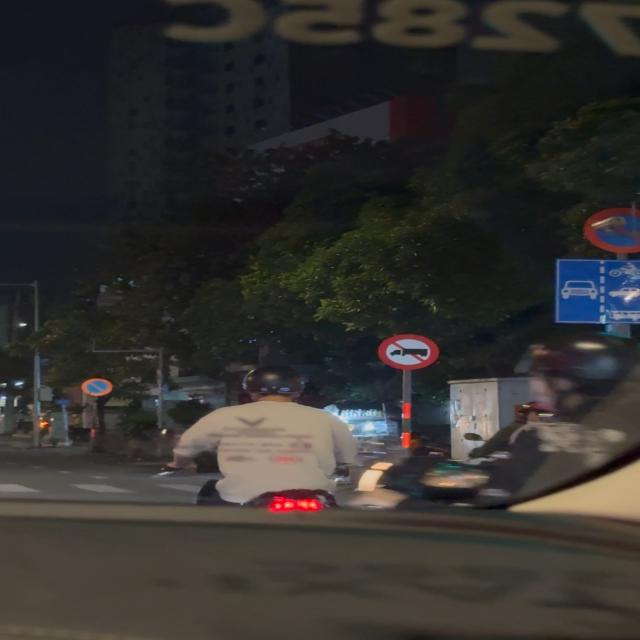Bien bao cam do xe: (82, 377, 118, 398)
Bien bao cam xe so-mi ro-mooc: (372, 333, 450, 374)
